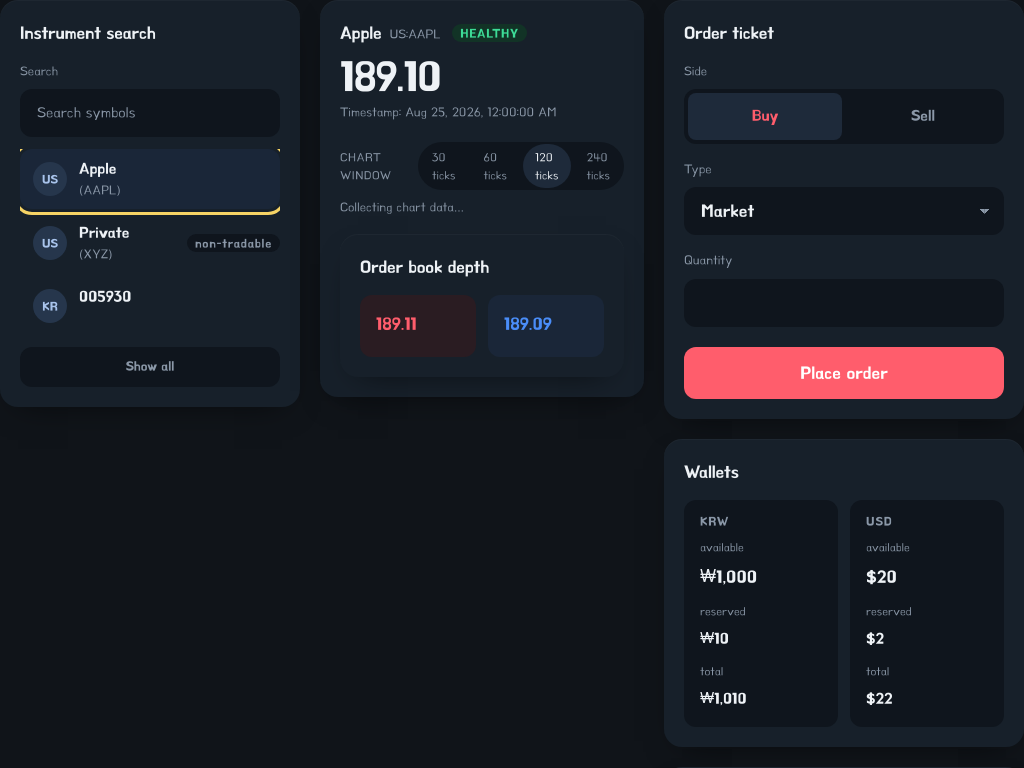
Test: TradePage › focuses the deep-linked row once, like following an anchor link
Click the button "US Private (XYZ)". click: (99, 243)
box: [20,213,179,273]
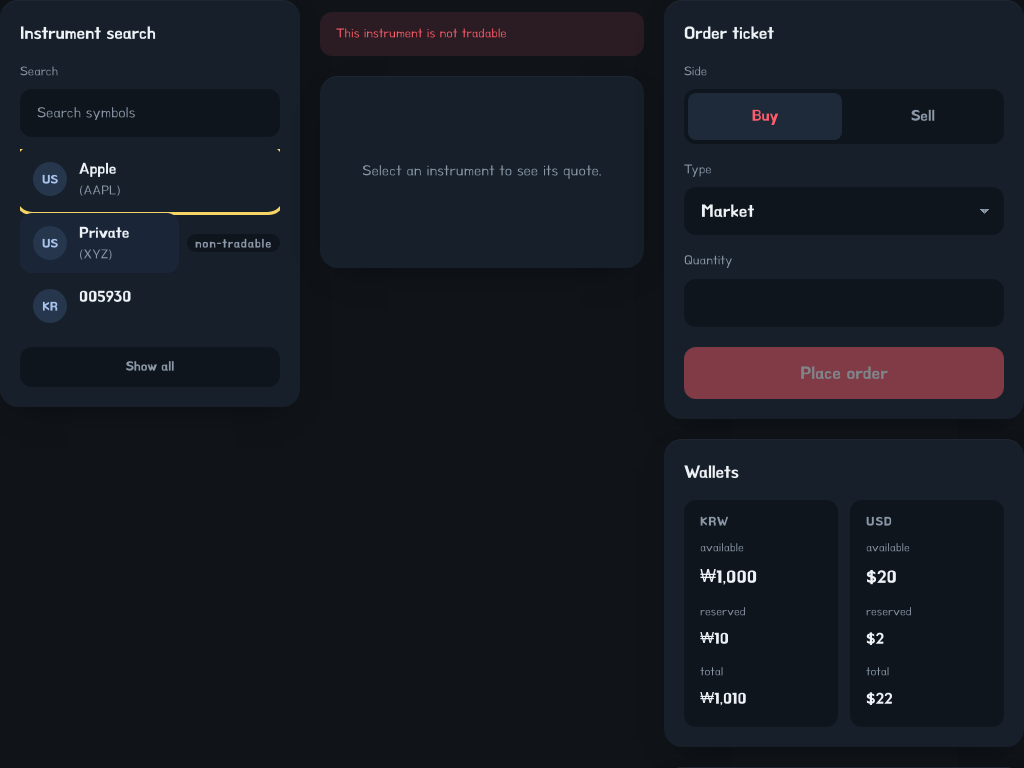
Expected: the text "This instrument is not tradable" is shown, [320,12,644,56]
